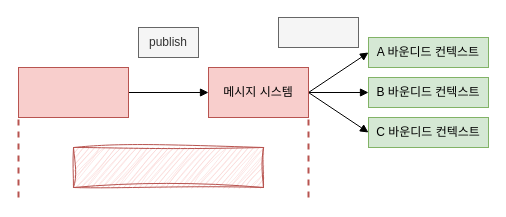
The diagram is 506 pixels wide and 217 high, and some of its shapes have lost their labels. The shapes that lost their labels are listed below. From the top down, each one's centre as x and y in pixels, then its label:
At point (318, 32): "subscription".
At point (73, 92): "카탈로그 바운디드 컨텍스트".
At point (168, 167): "카탈로그 바운디드 컨텍스트 개발팀의 관리 영역".
